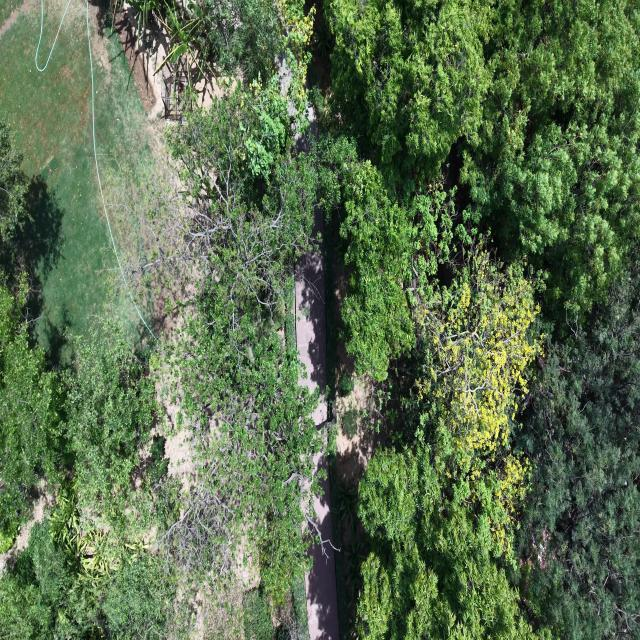DRY_AREA: (0, 2, 141, 357), (296, 248, 327, 427), (0, 0, 21, 36)
VEGETATION_TREE: (0, 0, 639, 639), (0, 6, 324, 637), (325, 0, 639, 638), (327, 0, 639, 317), (165, 65, 322, 605), (0, 264, 184, 639), (0, 324, 176, 638), (0, 0, 140, 365), (516, 254, 639, 637), (404, 243, 539, 556), (358, 446, 534, 639), (327, 0, 497, 192), (319, 136, 421, 379), (0, 523, 174, 639), (63, 321, 156, 517), (0, 280, 63, 552), (0, 122, 27, 241)
